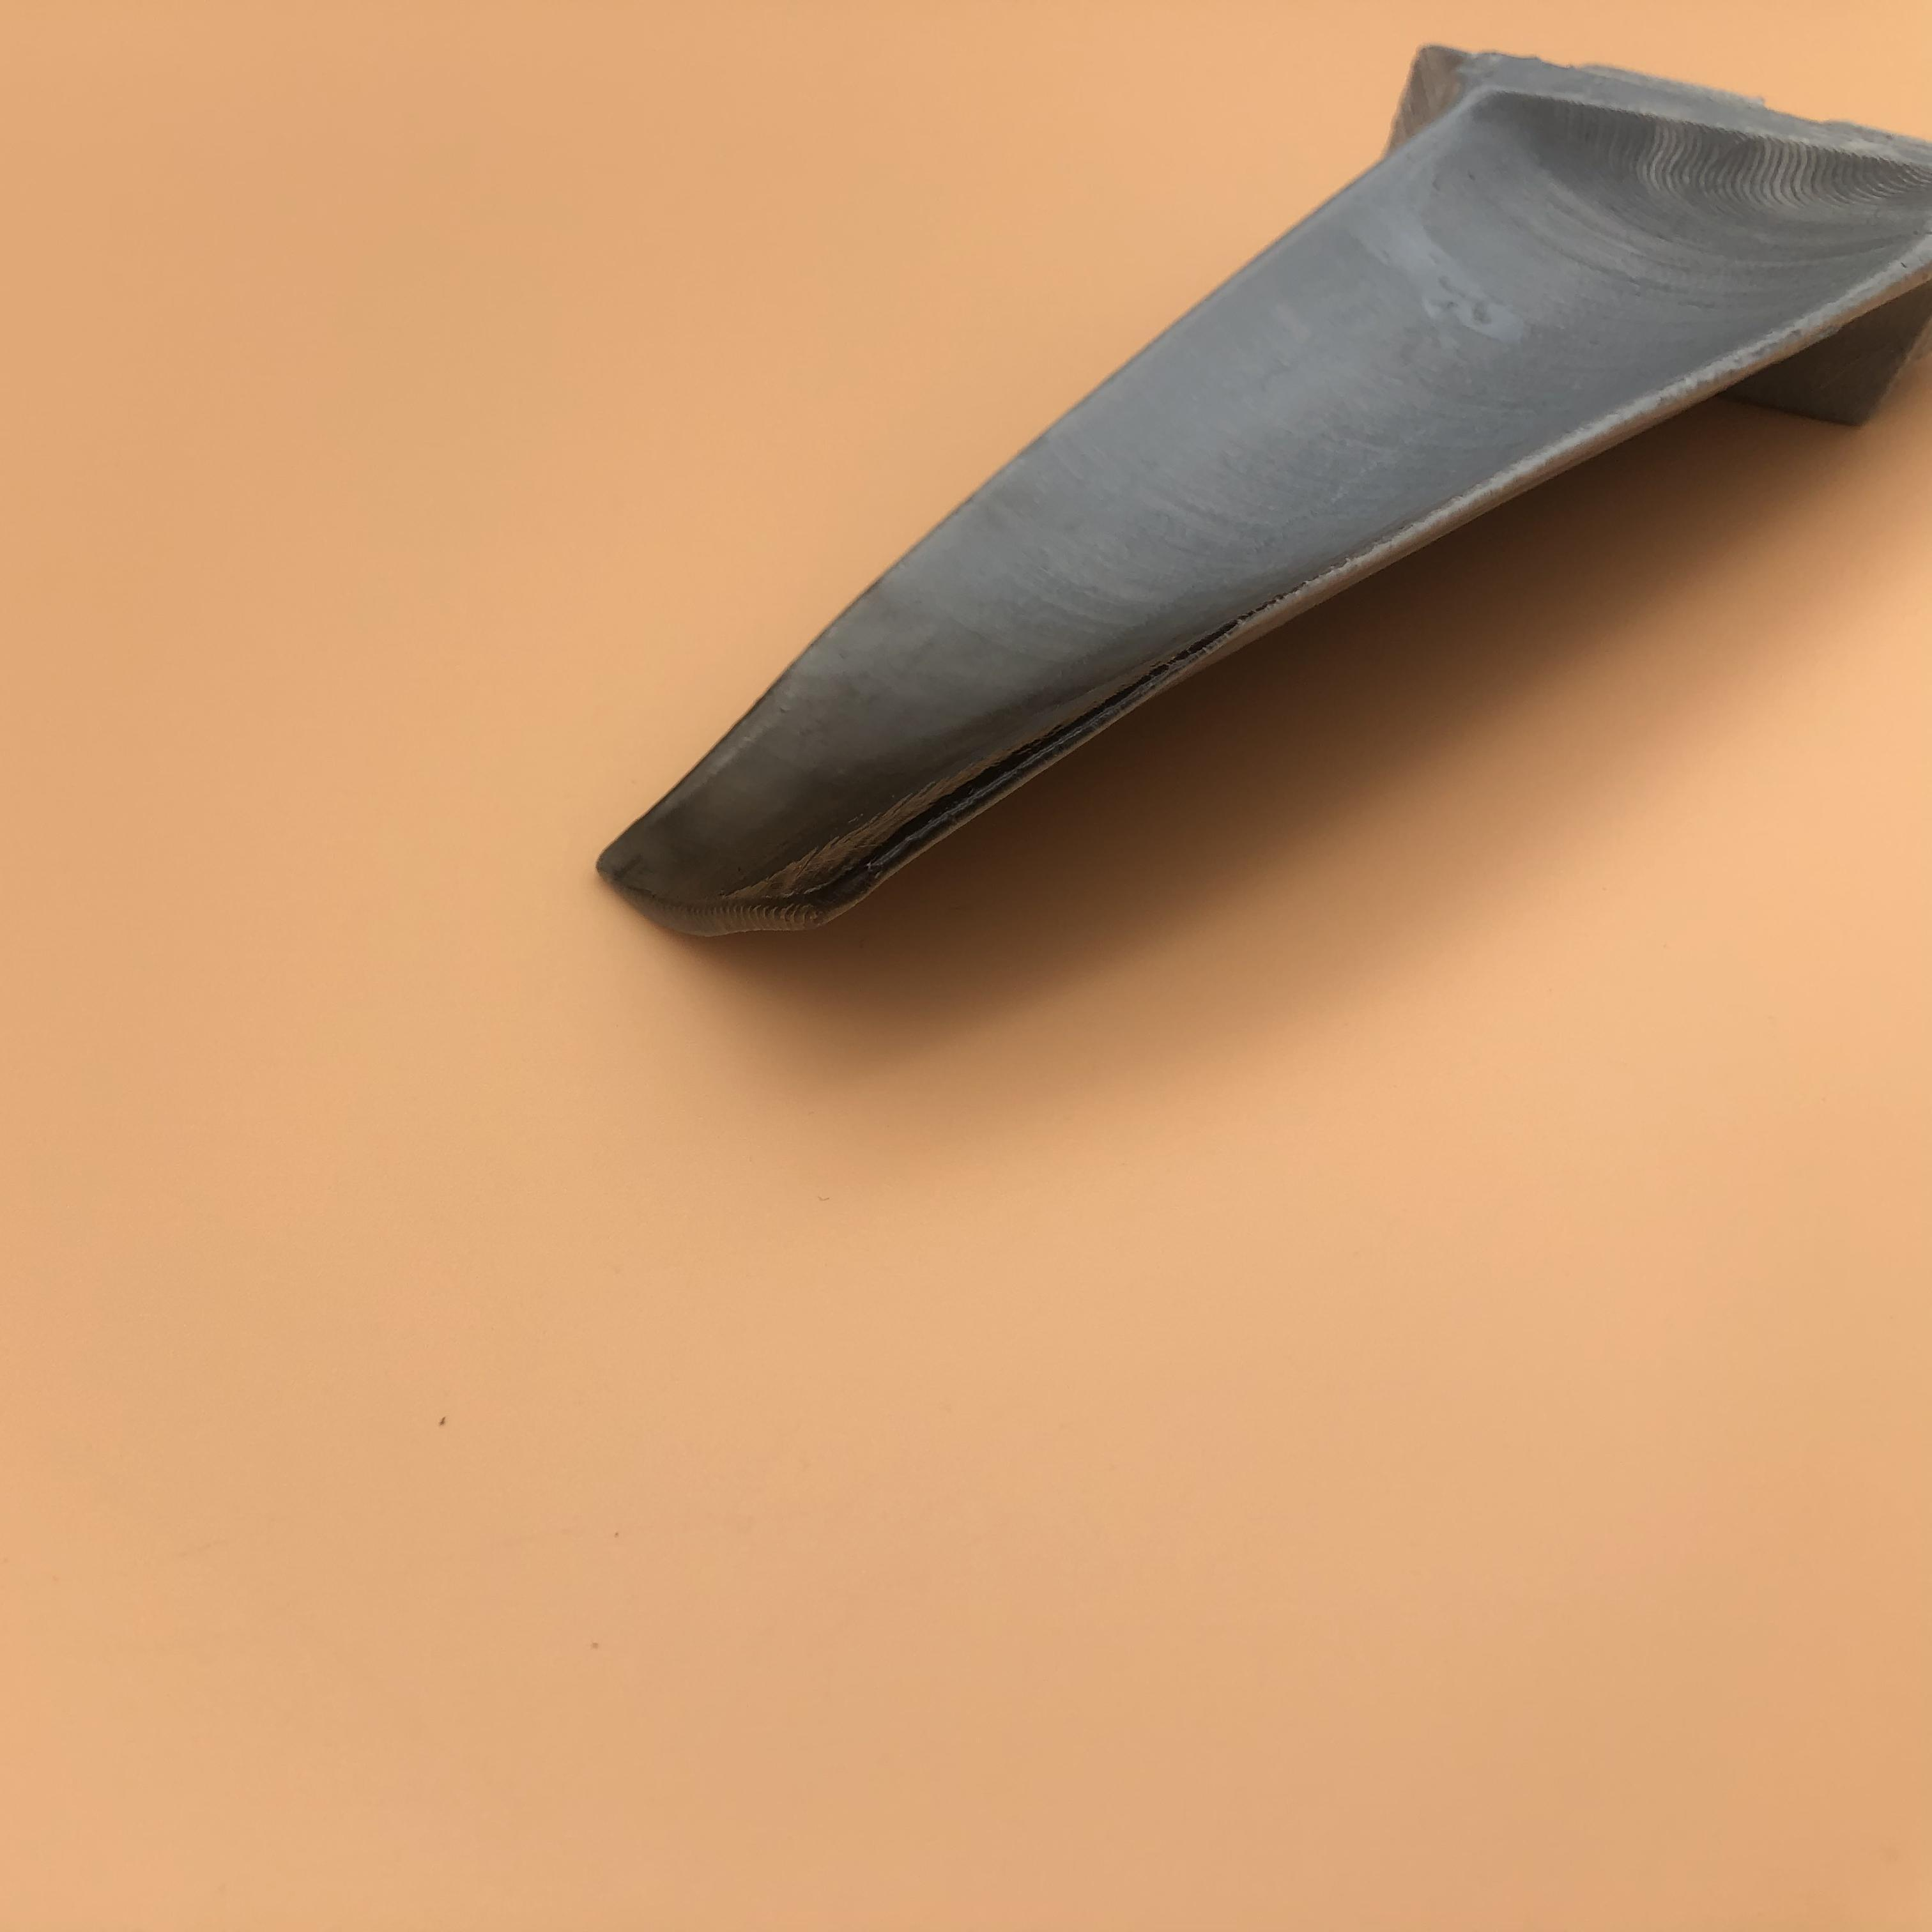ablation: (646, 674, 1157, 909)
